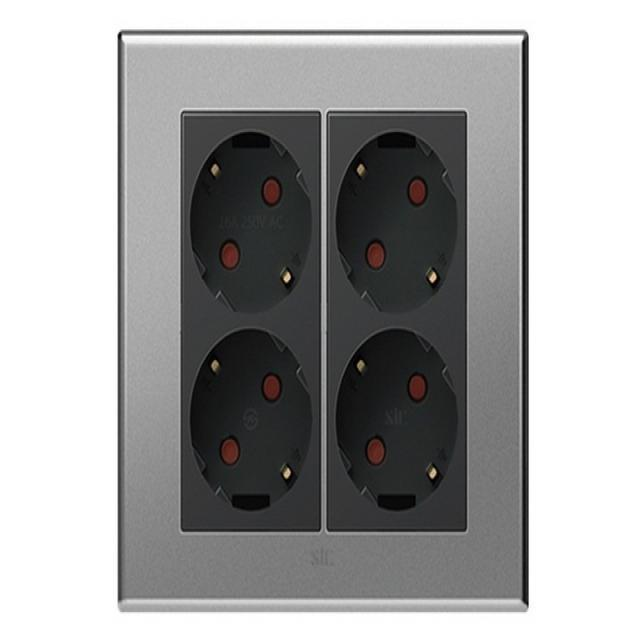typeb: (101, 27, 557, 621)
